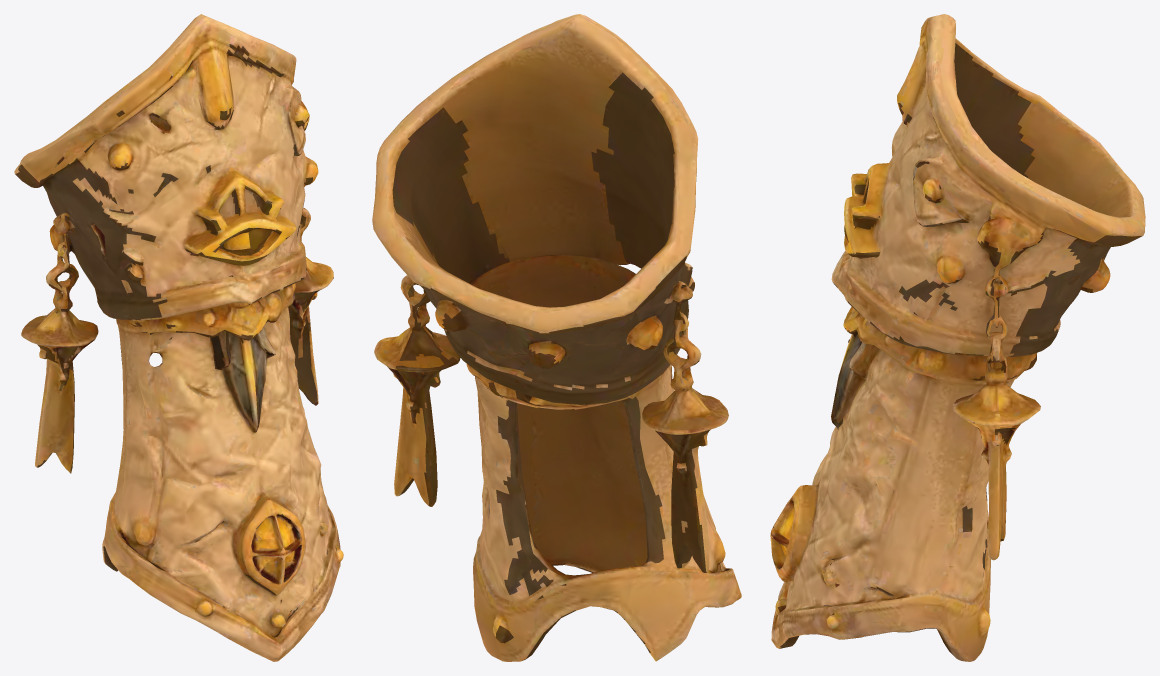
File: oraculo-bracal.glb
The picture shows the model from 3 angles, left to right: view 1: azimuth 30°, elevation 25°; view 2: azimuth 150°, elevation 25°; view 3: azimuth 270°, elevation 25°; orthographic projection. The views are drawn at different scales.
Visible parts, largest first — view 1: tripo_node_f1cd4fa9-d55e-43ba-9e0c-e1d6d5758538; view 2: tripo_node_f1cd4fa9-d55e-43ba-9e0c-e1d6d5758538; view 3: tripo_node_f1cd4fa9-d55e-43ba-9e0c-e1d6d5758538.
Part boxes in pixels (bbox=[...]): tripo_node_f1cd4fa9-d55e-43ba-9e0c-e1d6d5758538: bbox=[14, 14, 343, 661]; tripo_node_f1cd4fa9-d55e-43ba-9e0c-e1d6d5758538: bbox=[372, 14, 741, 661]; tripo_node_f1cd4fa9-d55e-43ba-9e0c-e1d6d5758538: bbox=[770, 14, 1145, 661].
Size of the model in its own units: 0.5297 by 0.9743 by 0.5218.
Materials: 1 (1 with a texture image).
